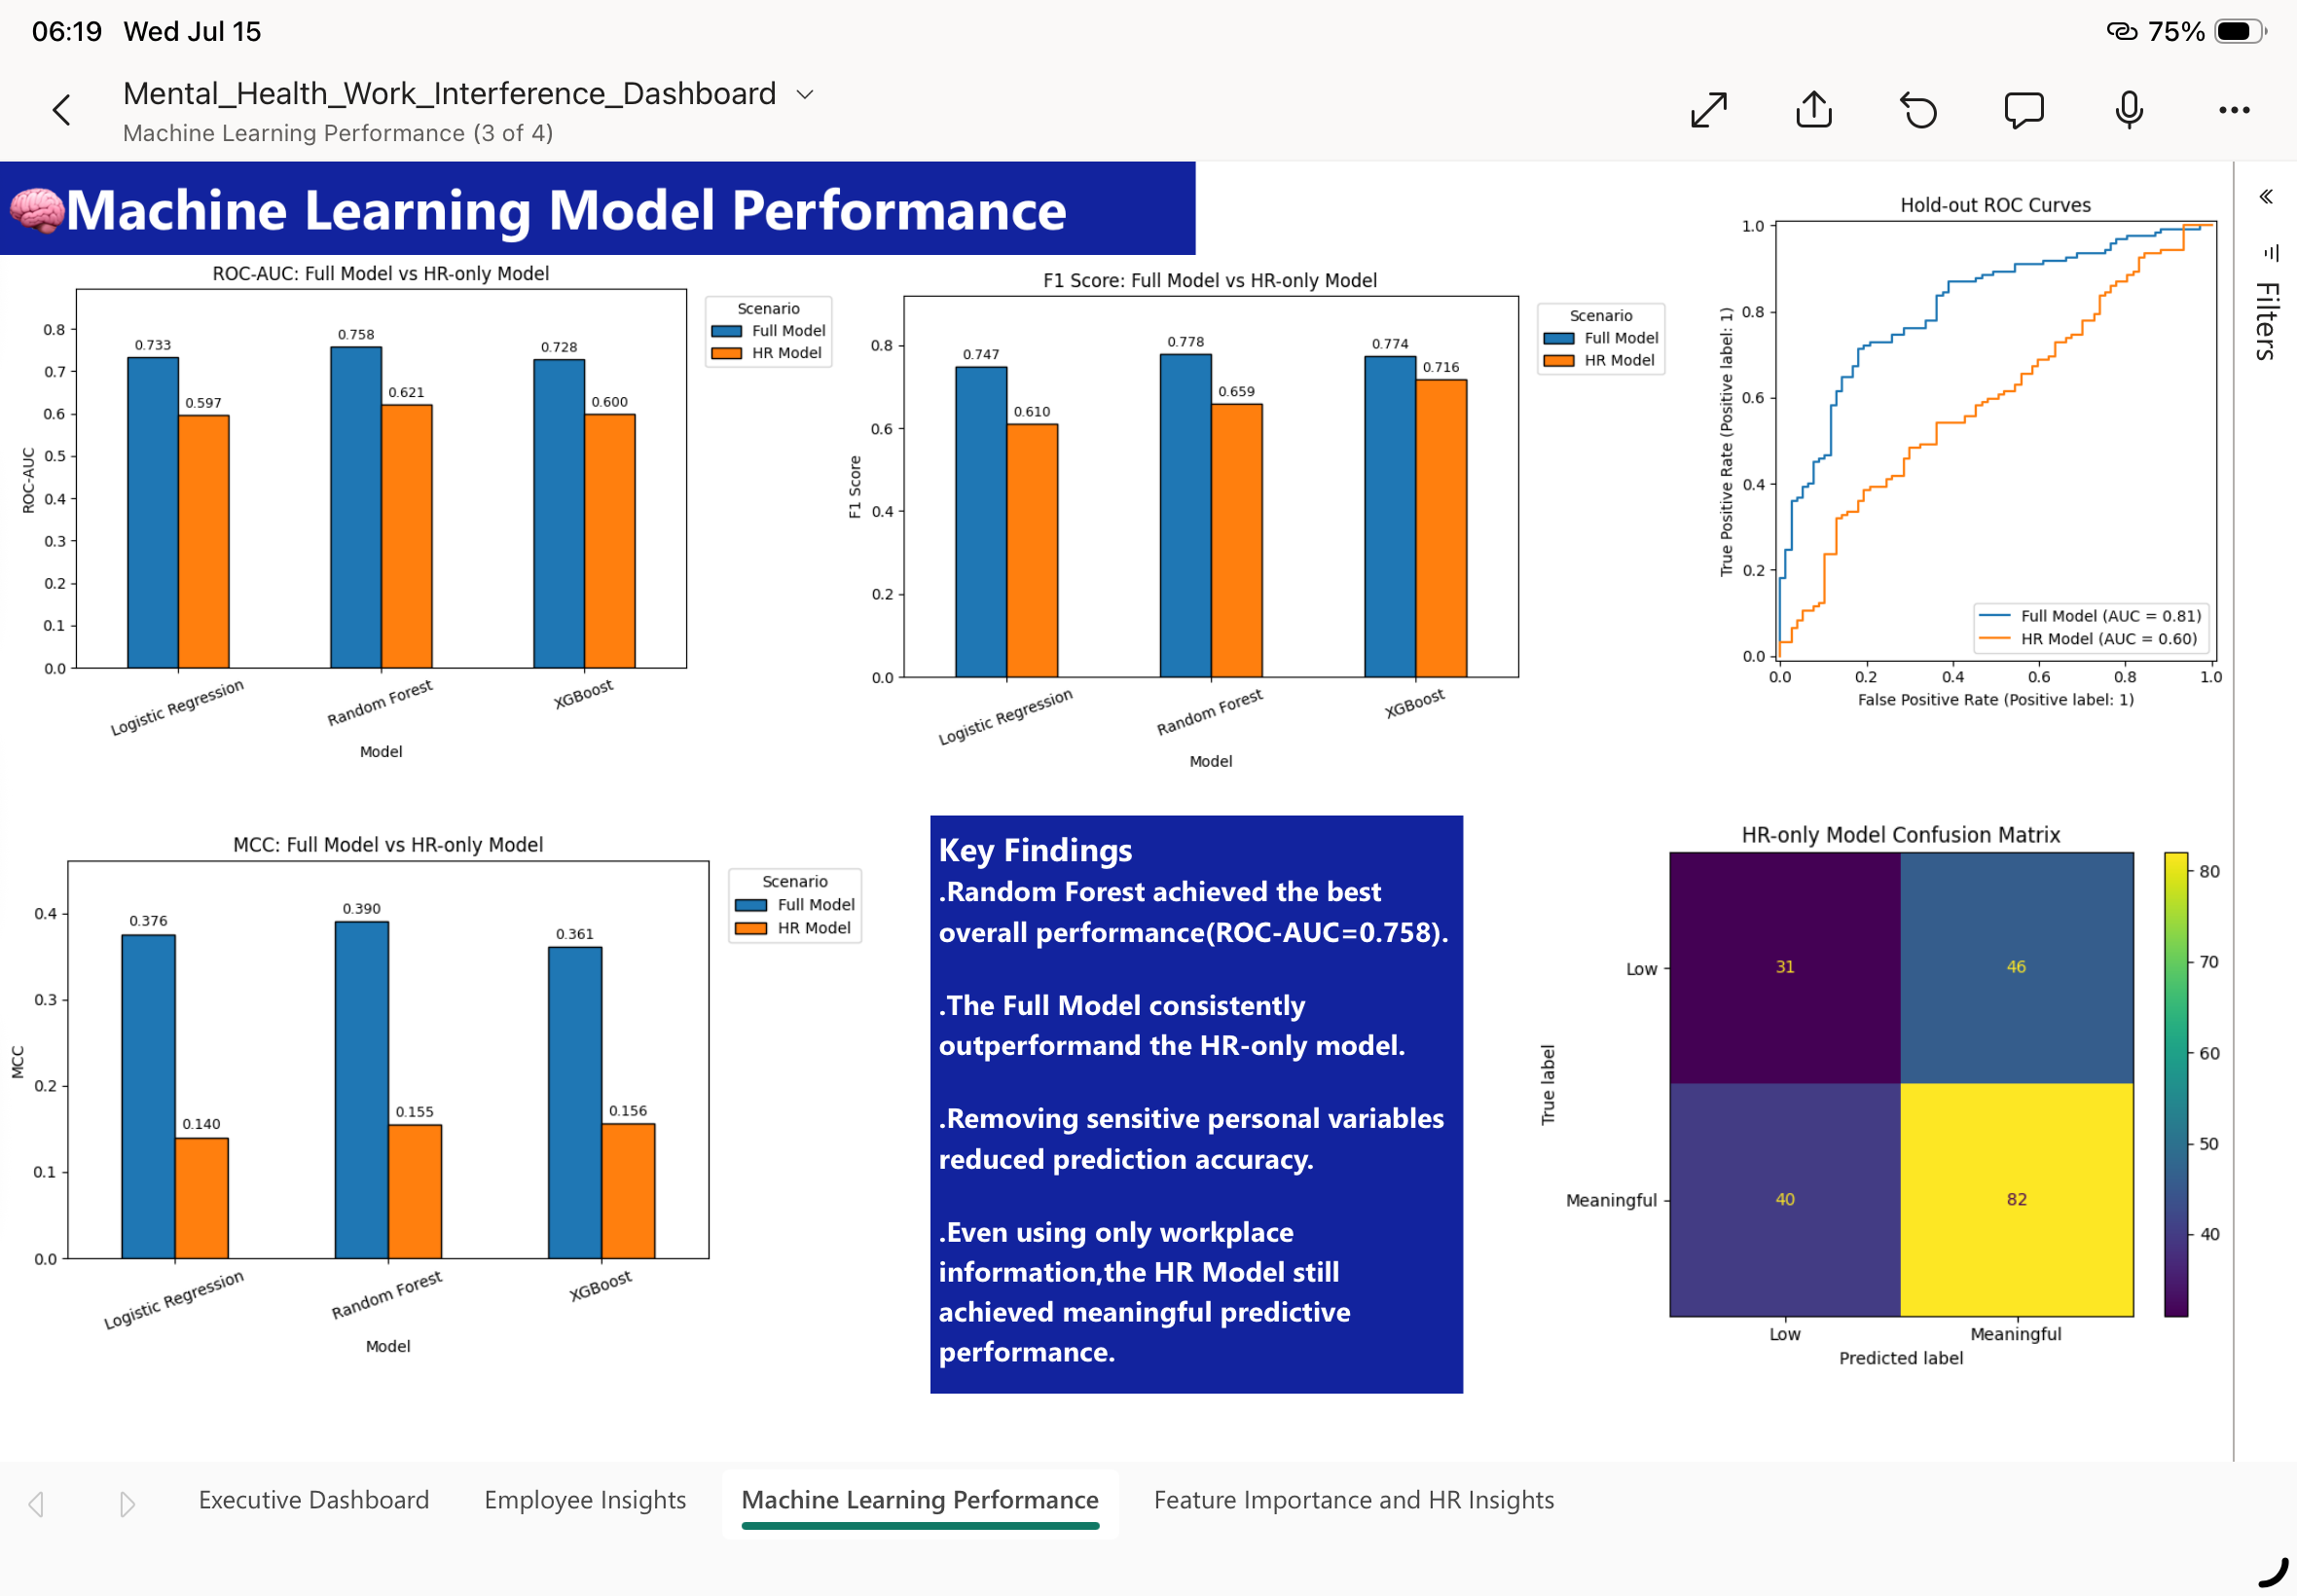

The page's visual inventory and layout, read from the dashboard file:
{"tool":"powerbi","page":{"name":"Machine Learning Performance","canvas":[1280,720],"ordinal":2},"visuals":[{"type":"textbox","box":[0,0,685.7,54.5],"z":0},{"type":"textbox","box":[10,175.5,743,150],"z":1},{"type":"image","box":[0,54.5,489.2,295.7],"z":2},{"type":"image","box":[480.5,54.5,479.5,305.4],"z":3},{"type":"image","box":[0,371.6,499.9,330.7],"z":4},{"type":"image","box":[979.5,0,300.5,335.6],"z":5},{"type":"image","box":[877.3,365.7,402.7,342.4],"z":6},{"type":"textbox","box":[533,376.4,305.4,331.7],"z":7}]}

Visuals, with their boxes on the page's 1280x720 design canvas (x1, y1, x2, y2). These are canvas units, not pixel positions in the 2297x1596 screenshot, which may show the page scaled, cropped or inside an application window:
textbox: (left=0, top=0, right=686, bottom=54)
textbox: (left=10, top=176, right=753, bottom=326)
image: (left=0, top=54, right=489, bottom=350)
image: (left=480, top=54, right=960, bottom=360)
image: (left=0, top=372, right=500, bottom=702)
image: (left=980, top=0, right=1280, bottom=336)
image: (left=877, top=366, right=1280, bottom=708)
textbox: (left=533, top=376, right=838, bottom=708)
